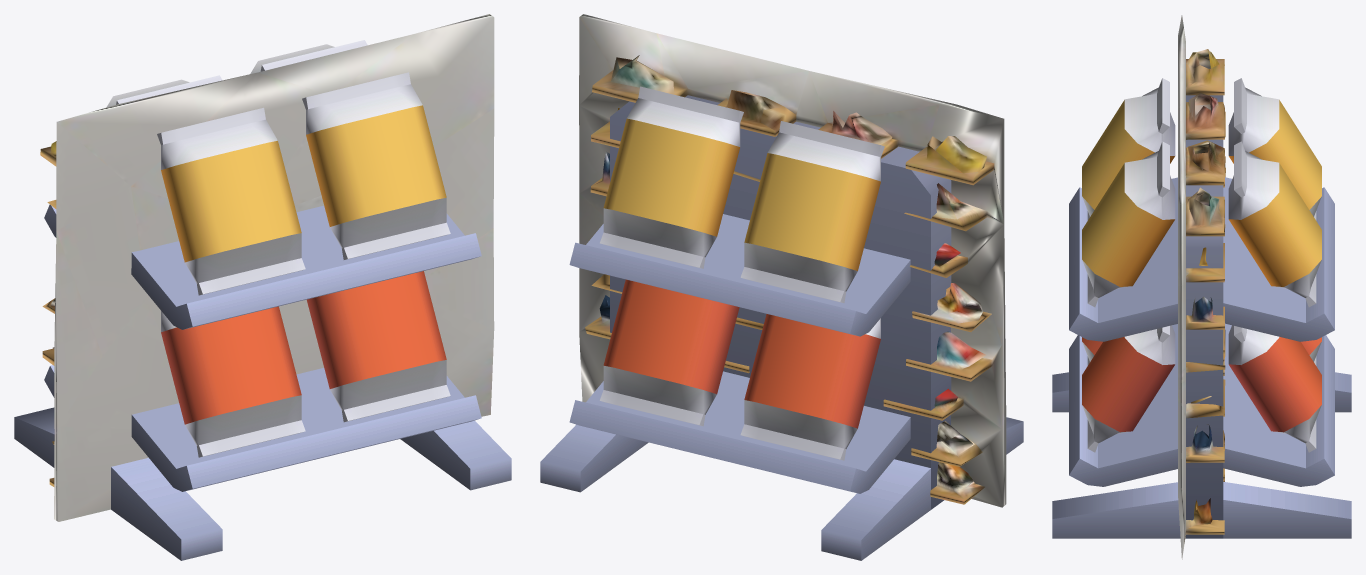
Rendered from shop-fashion.glb.
The picture shows the model from 3 angles, left to right: view 1: azimuth 30°, elevation 25°; view 2: azimuth 150°, elevation 25°; view 3: azimuth 270°, elevation 25°; orthographic projection. The views are drawn at different scales.
Visible parts, largest first — view 1: shelf-bags, tripo_node_25c2cb02-aa6f-4ebc-b993-37c06aad8904; view 2: shelf-bags, tripo_node_25c2cb02-aa6f-4ebc-b993-37c06aad8904; view 3: shelf-bags, tripo_node_25c2cb02-aa6f-4ebc-b993-37c06aad8904.
Boxes of the visible parts, bbox=[...] form: shelf-bags: bbox=[14, 40, 511, 560]; tripo_node_25c2cb02-aa6f-4ebc-b993-37c06aad8904: bbox=[40, 14, 494, 521]; shelf-bags: bbox=[540, 86, 1023, 560]; tripo_node_25c2cb02-aa6f-4ebc-b993-37c06aad8904: bbox=[579, 14, 1006, 507]; shelf-bags: bbox=[1052, 78, 1351, 538]; tripo_node_25c2cb02-aa6f-4ebc-b993-37c06aad8904: bbox=[1178, 15, 1225, 559].
Bounding box in the file's own units: 2.2 × 1.93 × 1.46.
2 materials, 2 textured.
